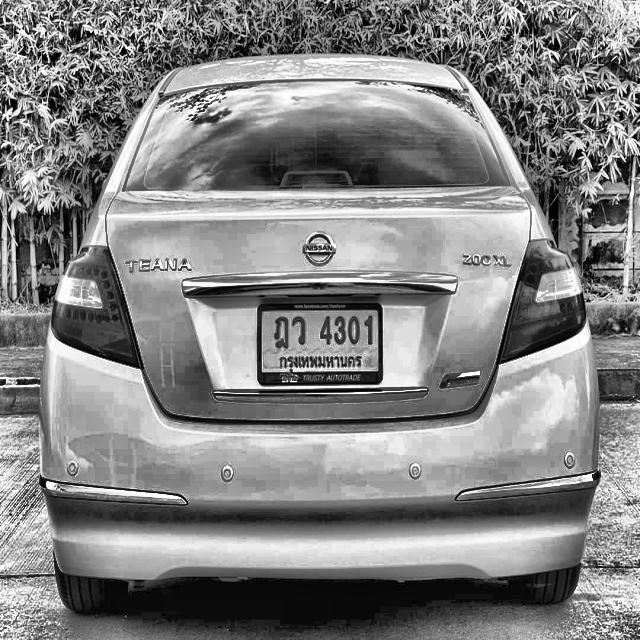license-plate: (257, 300, 385, 386)
